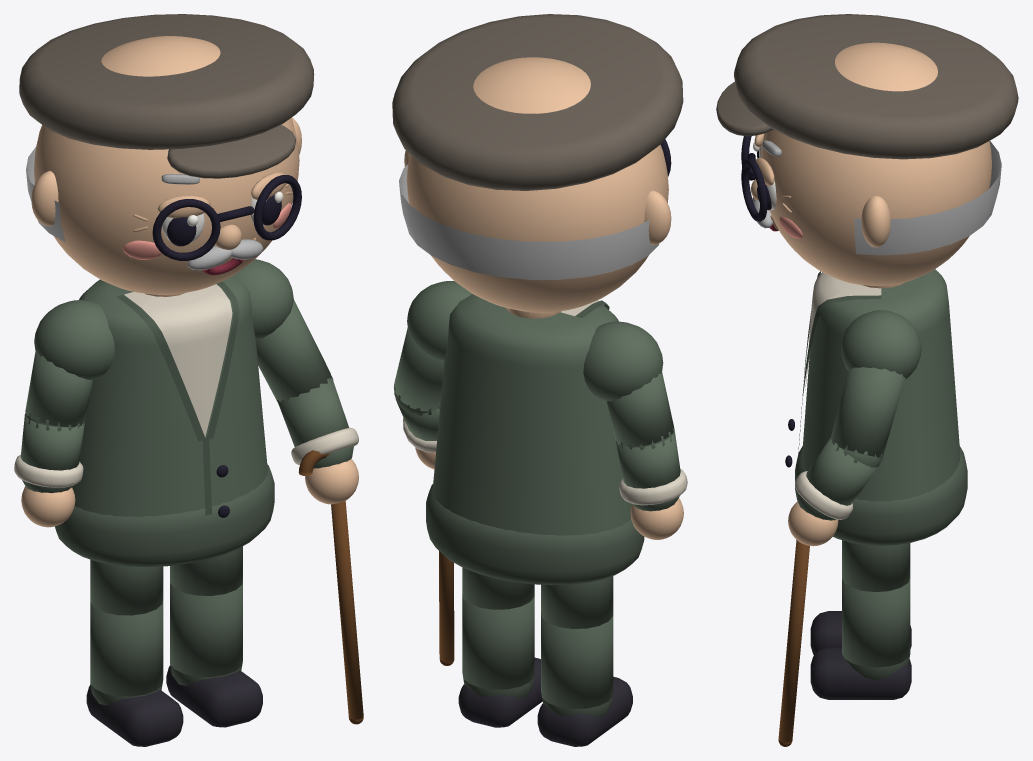
Rendered from ch_passer_grandpa.fbx.
3 renders of one model, left to right at view 1: azimuth 30°, elevation 25°; view 2: azimuth 150°, elevation 25°; view 3: azimuth 270°, elevation 25°, orthographic. The views are drawn at different scales.
Parts seen in each view (by area): view 1: ch_passer_grandpa__base, ch_passer_grandpa__anim_arm_r, ch_passer_grandpa__anim_leg_l, ch_passer_grandpa__anim_leg_r, ch_passer_grandpa__anim_arm_l; view 2: ch_passer_grandpa__base, ch_passer_grandpa__anim_leg_l, ch_passer_grandpa__anim_leg_r, ch_passer_grandpa__anim_arm_l, ch_passer_grandpa__anim_arm_r; view 3: ch_passer_grandpa__base, ch_passer_grandpa__anim_arm_r, ch_passer_grandpa__anim_leg_r, ch_passer_grandpa__anim_leg_l.
Boxes of the visible parts, bbox=[...] form: ch_passer_grandpa__base: bbox=[19, 14, 314, 567]; ch_passer_grandpa__anim_arm_r: bbox=[256, 300, 363, 724]; ch_passer_grandpa__anim_leg_l: bbox=[86, 559, 183, 746]; ch_passer_grandpa__anim_leg_r: bbox=[166, 546, 262, 727]; ch_passer_grandpa__anim_arm_l: bbox=[14, 352, 92, 527]; ch_passer_grandpa__base: bbox=[392, 14, 683, 585]; ch_passer_grandpa__anim_leg_l: bbox=[537, 576, 632, 746]; ch_passer_grandpa__anim_leg_r: bbox=[458, 567, 542, 727]; ch_passer_grandpa__anim_arm_l: bbox=[606, 371, 687, 539]; ch_passer_grandpa__anim_arm_r: bbox=[393, 327, 454, 665]; ch_passer_grandpa__base: bbox=[716, 14, 1018, 545]; ch_passer_grandpa__anim_arm_r: bbox=[778, 367, 905, 746]; ch_passer_grandpa__anim_leg_r: bbox=[810, 540, 911, 699]; ch_passer_grandpa__anim_leg_l: bbox=[810, 611, 911, 654].
Size of the model in its own units: 0.7087 by 1.48 by 0.6475.
